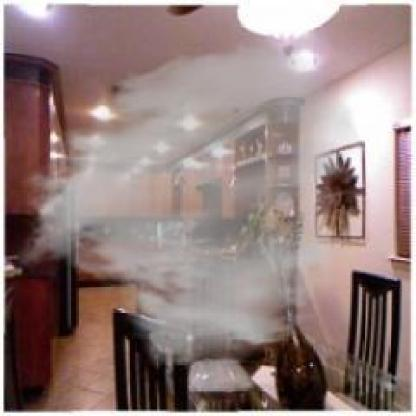Smoke: (12, 37, 362, 372)
